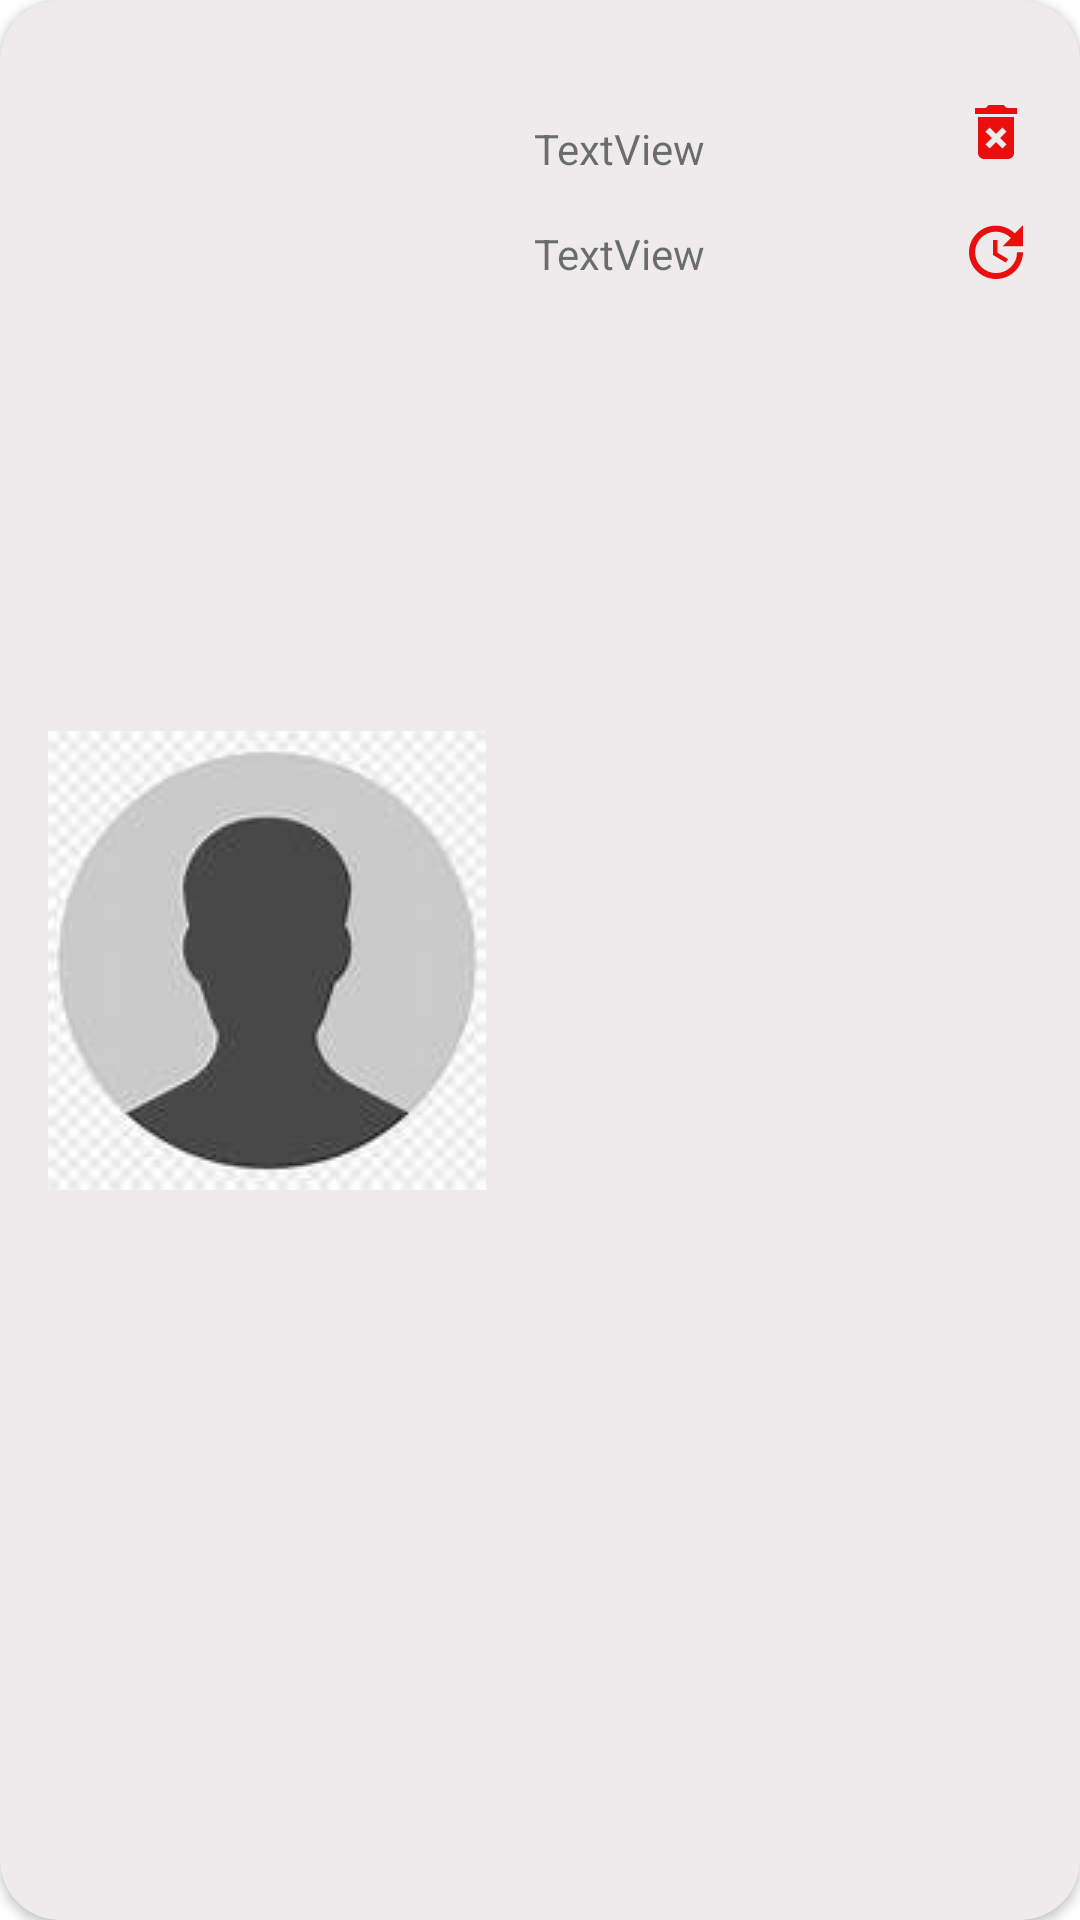

Screen size 1080 × 1920. Icon name, then its box in pixels as BBox(x1, y1, x2, y2):
delete forever: BBox(975, 105, 1017, 159)
update: BBox(969, 225, 1023, 279)
